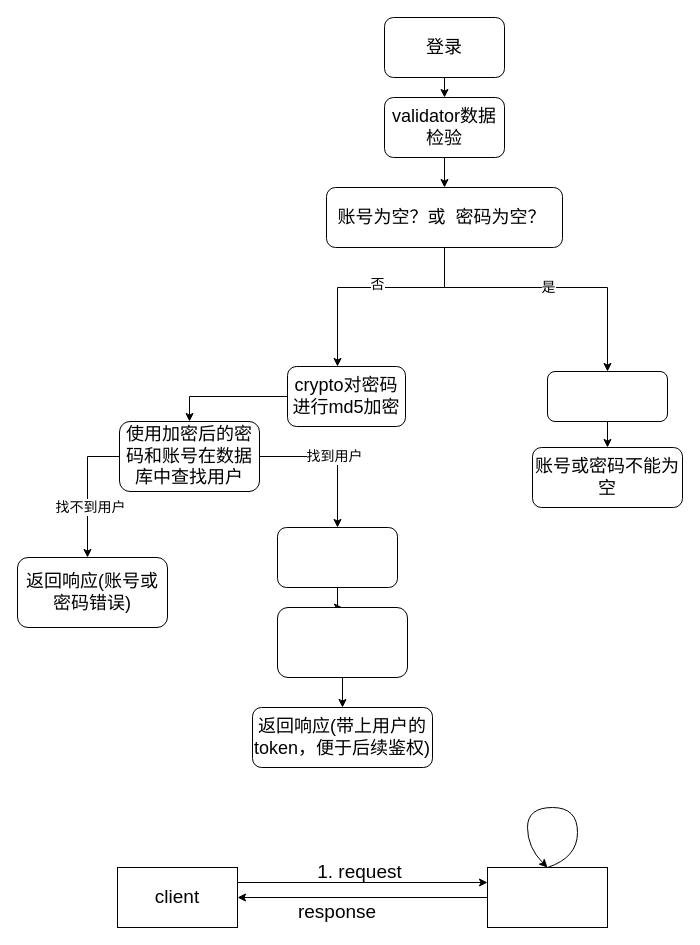
This 700x945 diagram has some shape labels left out. The shapes that lost their labels are listed below. From the top down, each one's centre as x and y in pixels, then its label:
At point 607,396: "返回响应".
At point 337,557: "获取用户在数据库中的id".
At point 342,642: "使用JWT加密用户id获得用户token".
At point 547,897: "server".
